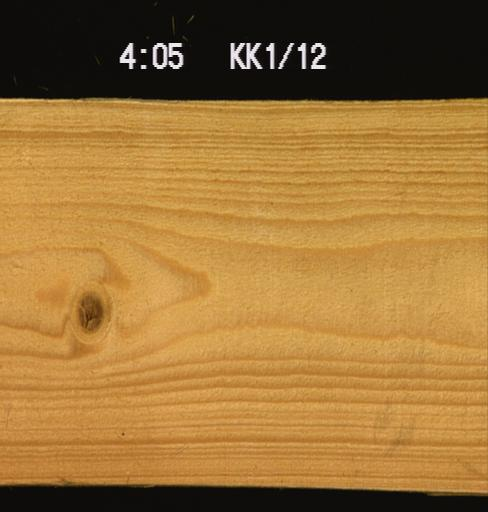sound_knot: (74, 290, 108, 332)
